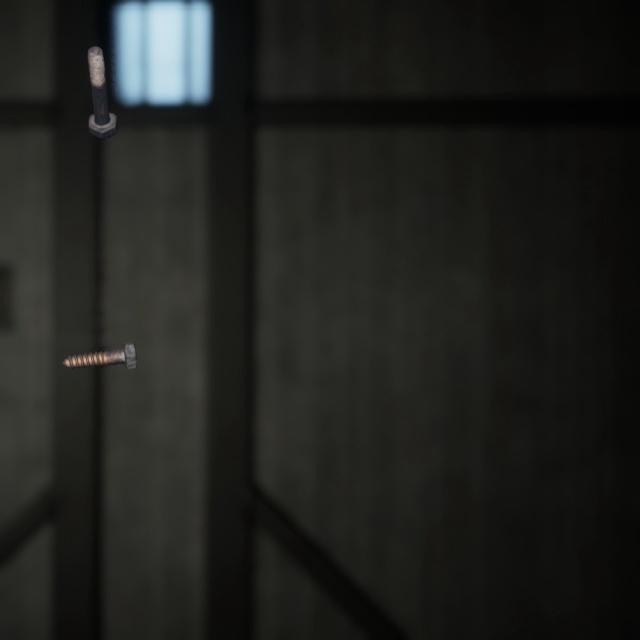bolt: (83, 31, 121, 132), (57, 319, 141, 355)
